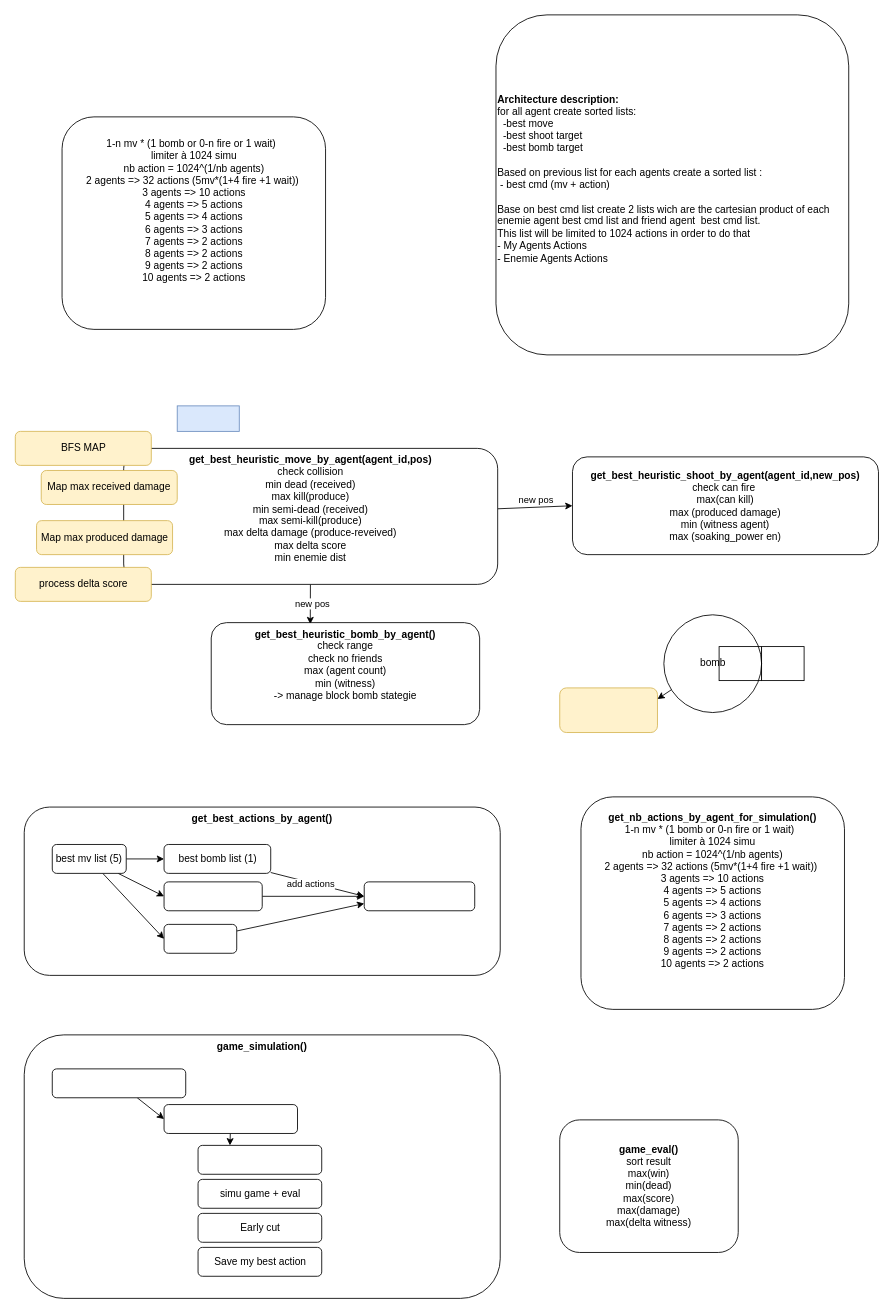
Image size: 893x1313. Some labels were removed from this diagram. Here are the shapes that lost their labels. From the top down, the centre of each, then its label:
At (207,418): "best move by agent".
At (740,663): "En".
At (782,663): "Me wait".
At (608,710): "precomputed best target agent 10*5 *5 =>250".
At (212,896): "best shoot list (5)".
At (419,896): "sorted actions_list (35)".
At (200,938): "hanker".
At (118,1083): "For all My Agents Actions (Cartesian Product)".
At (230,1118): "For all En Agents Actions (Cartesian Product)".
At (259,1159): "Memoization Hash".
